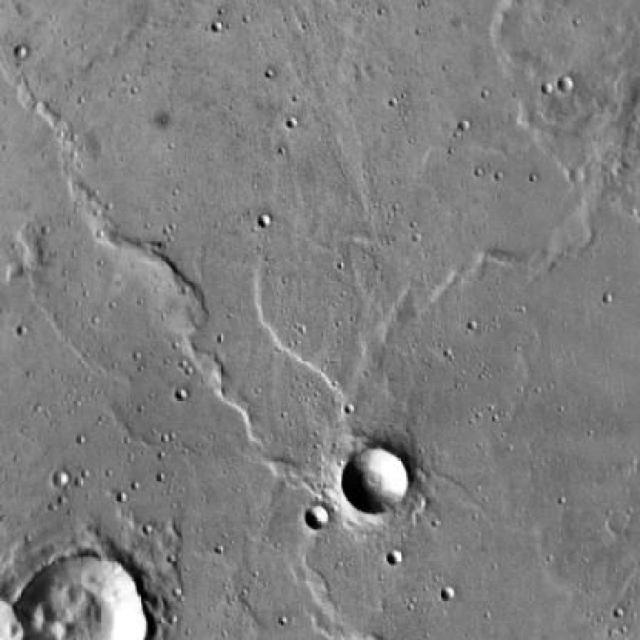crater: (17, 544, 159, 640), (338, 450, 404, 516), (304, 505, 328, 529), (557, 77, 574, 94), (53, 472, 70, 488)
